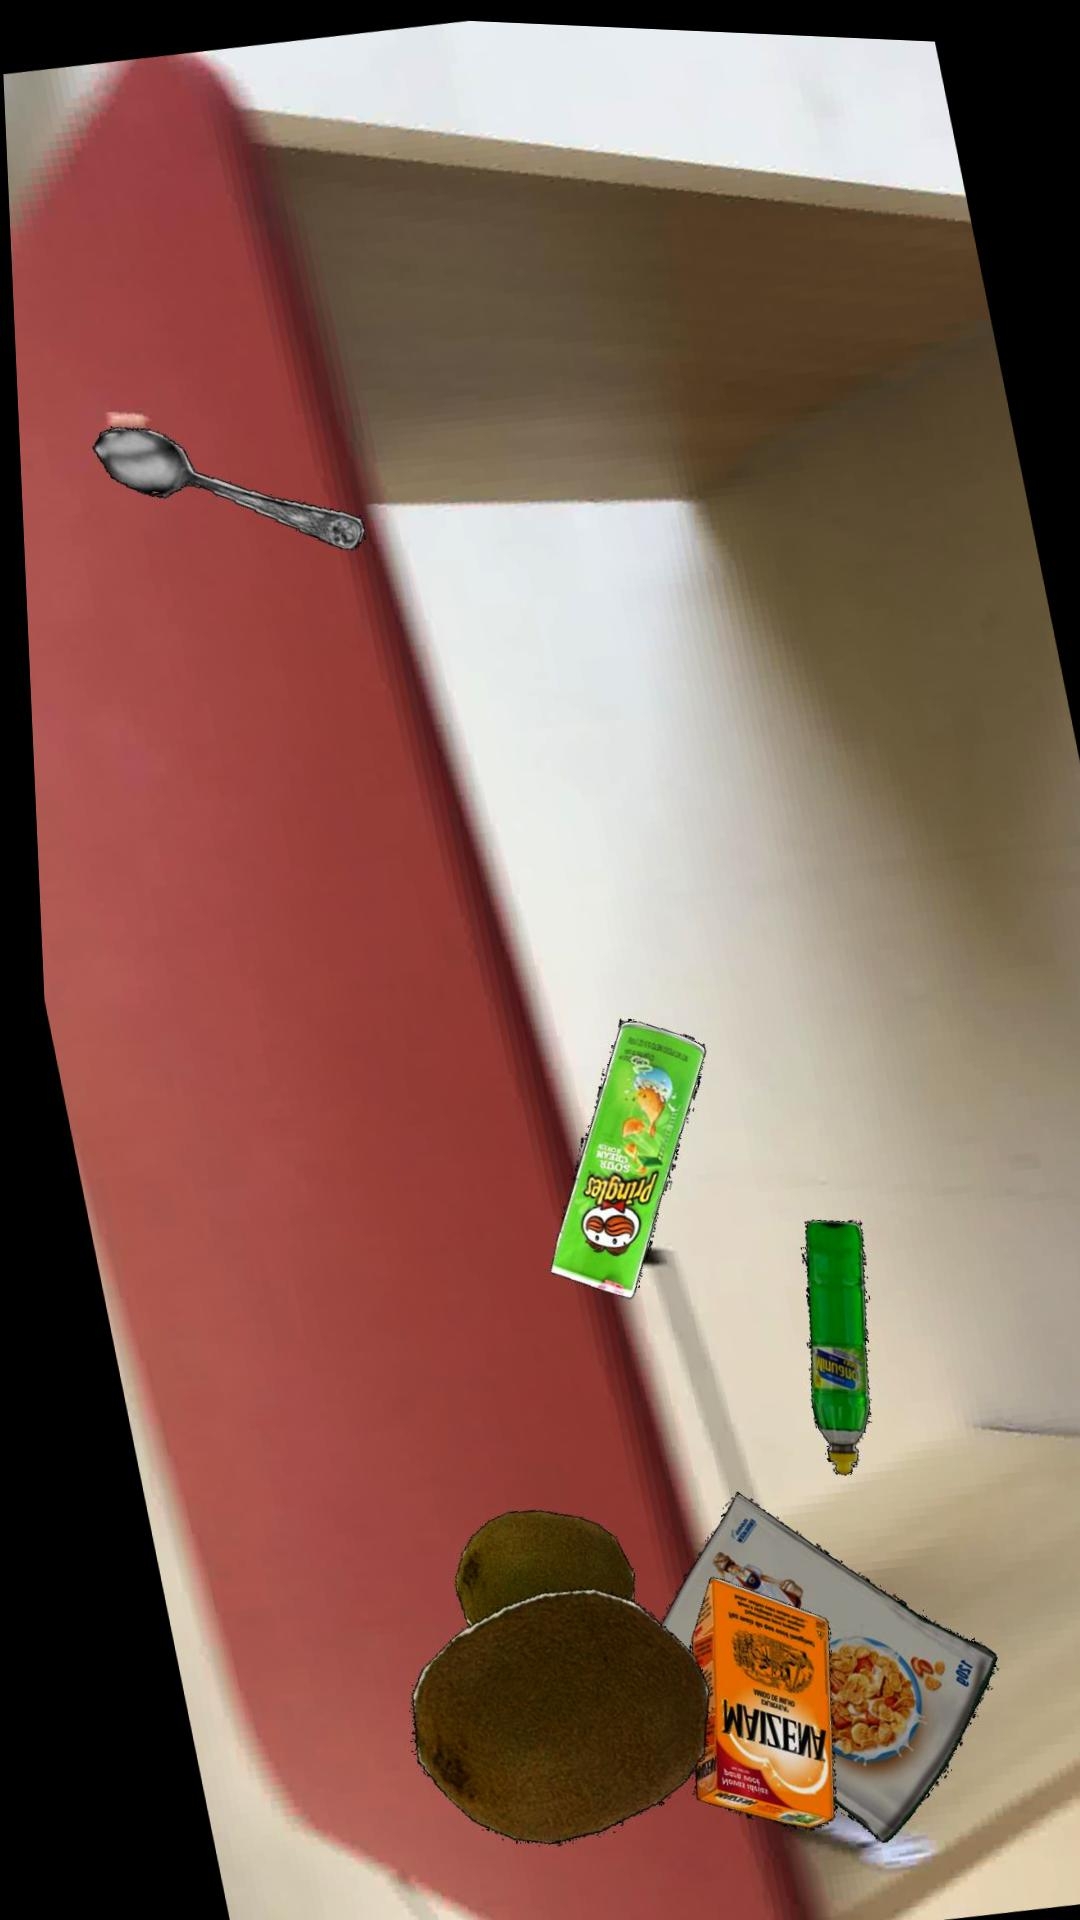cleaner: (791, 1213, 860, 1469)
corn flakes: (647, 1486, 984, 1836)
kiwi: (397, 1584, 695, 1841), (442, 1507, 621, 1623)
pringles: (539, 1014, 698, 1294)
spoon: (90, 427, 361, 547)
